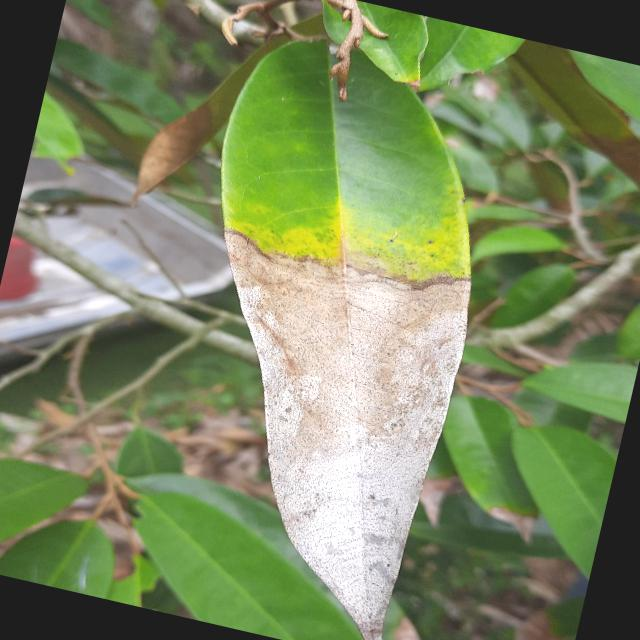Leaf Blight: (100, 2, 542, 639)
